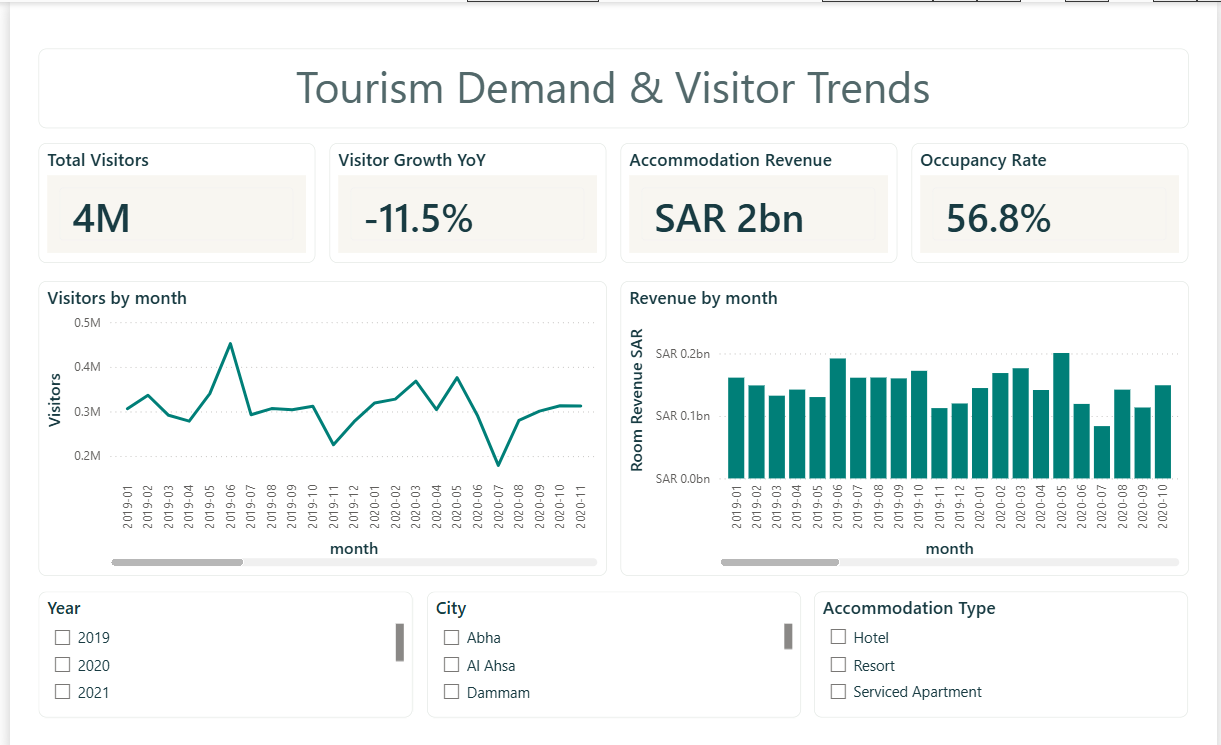

What the dashboard file says about the page in this screenshot:
{"tool":"powerbi","page":{"name":"Tourism Demand & Visitor Trends","canvas":[1200,720],"ordinal":0},"visuals":[{"type":"textbox","box":[28,17,1144,79],"z":1000},{"type":"cardVisual","title":"Total Visitors","fields":{"Data":["Tourism.Latest Year Visitors"]},"box":[28,111,275.5,119],"z":1000},{"type":"cardVisual","title":"Visitor Growth YoY","fields":{"Data":["Tourism.Visitors YoY"]},"box":[317.5,111,275.5,119],"z":1000},{"type":"cardVisual","title":"Accommodation Revenue","fields":{"Data":["Tourism.Latest Year Revenue"]},"box":[607,111,275.5,119],"z":1000},{"type":"cardVisual","title":"Occupancy Rate","fields":{"Data":["Tourism.Latest Year Occupancy"]},"box":[896.5,111,275.5,119],"z":1000},{"type":"lineChart","title":"Visitors by month","fields":{"Category":["Tourism.month"],"Y":["Tourism.Visitors"]},"box":[28,247,565,293],"z":1000},{"type":"clusteredColumnChart","title":"Revenue by month","fields":{"Category":["Tourism.month"],"Y":["Tourism.Room Revenue SAR"]},"box":[607,247,565,293],"z":1000},{"type":"slicer","title":"Year","fields":{"Values":["Tourism.Year"]},"box":[28,557,372,125],"z":1000},{"type":"slicer","title":"City","fields":{"Values":["Tourism.city"]},"box":[414,557,372,125],"z":1000},{"type":"slicer","title":"Accommodation Type","fields":{"Values":["Tourism.accommodation_type"]},"box":[800,557,372,125],"z":1000}]}

Visuals, with their boxes in screenshot pixels (x1, y1, x2, y2), scaled from the page's 1200x720 canvas onto the 1221x745 screenshot:
textbox: [left=28, top=18, right=1193, bottom=99]
"Total Visitors" cardVisual: [left=28, top=115, right=309, bottom=238]
"Visitor Growth YoY" cardVisual: [left=323, top=115, right=603, bottom=238]
"Accommodation Revenue" cardVisual: [left=618, top=115, right=898, bottom=238]
"Occupancy Rate" cardVisual: [left=912, top=115, right=1193, bottom=238]
"Visitors by month" lineChart: [left=28, top=256, right=603, bottom=559]
"Revenue by month" clusteredColumnChart: [left=618, top=256, right=1193, bottom=559]
"Year" slicer: [left=28, top=576, right=407, bottom=706]
"City" slicer: [left=421, top=576, right=800, bottom=706]
"Accommodation Type" slicer: [left=814, top=576, right=1193, bottom=706]
